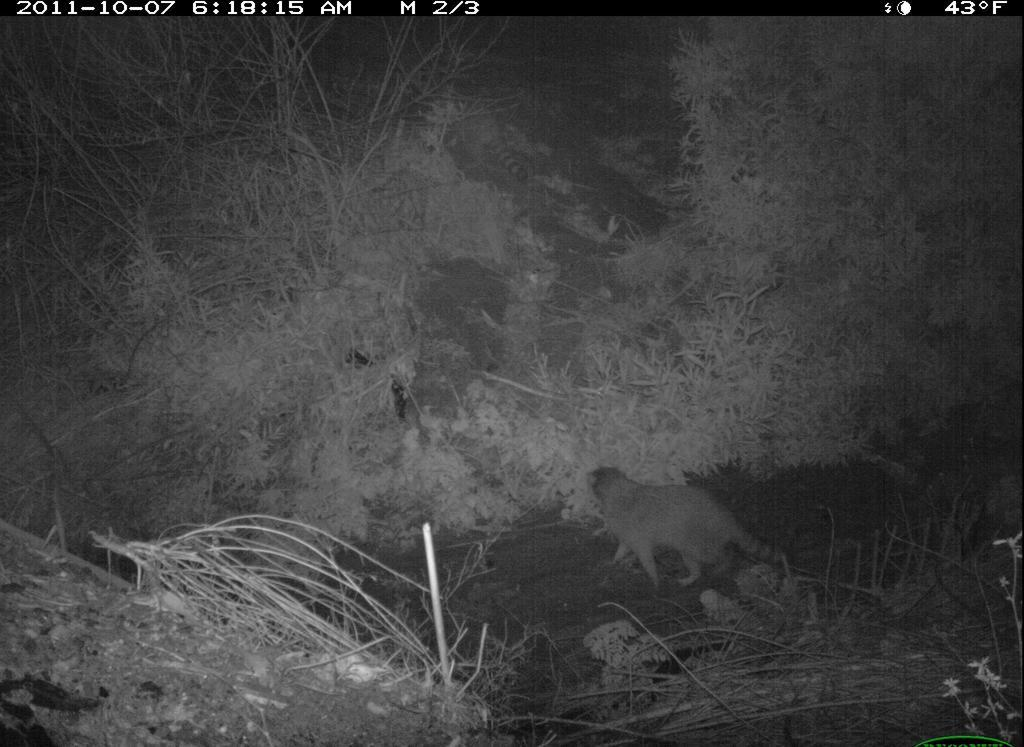raccoon: (585, 461, 803, 596)
